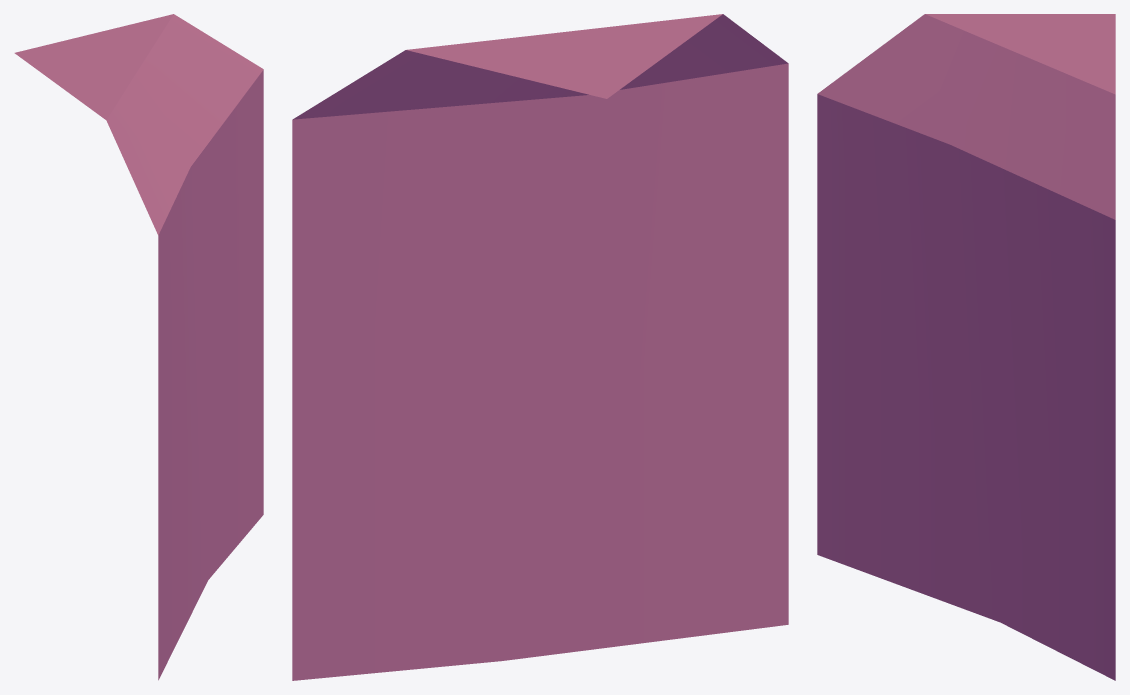
File: Module_Diagonal_Corner_Mesh_01_v01.fbx
3 renders of one model, left to right at view 1: azimuth 30°, elevation 25°; view 2: azimuth 150°, elevation 25°; view 3: azimuth 270°, elevation 25°, orthographic. The views are drawn at different scales.
Visible parts, largest first — view 1: Module_Diagonal_Corner_Mesh_01_v01; view 2: Module_Diagonal_Corner_Mesh_01_v01; view 3: Module_Diagonal_Corner_Mesh_01_v01.
Boxes of the visible parts, left/top/right/bottom form: Module_Diagonal_Corner_Mesh_01_v01: left=14, top=14, right=263, bottom=680; Module_Diagonal_Corner_Mesh_01_v01: left=292, top=14, right=788, bottom=680; Module_Diagonal_Corner_Mesh_01_v01: left=817, top=14, right=1115, bottom=680.
Size of the model in its own units: 200 by 400 by 200.
